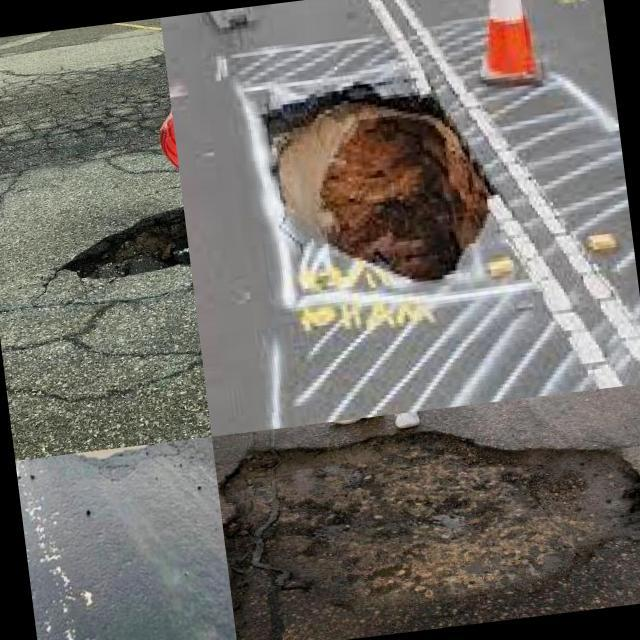Pothole: (219, 423, 640, 611), (265, 103, 491, 285), (60, 203, 191, 278)
